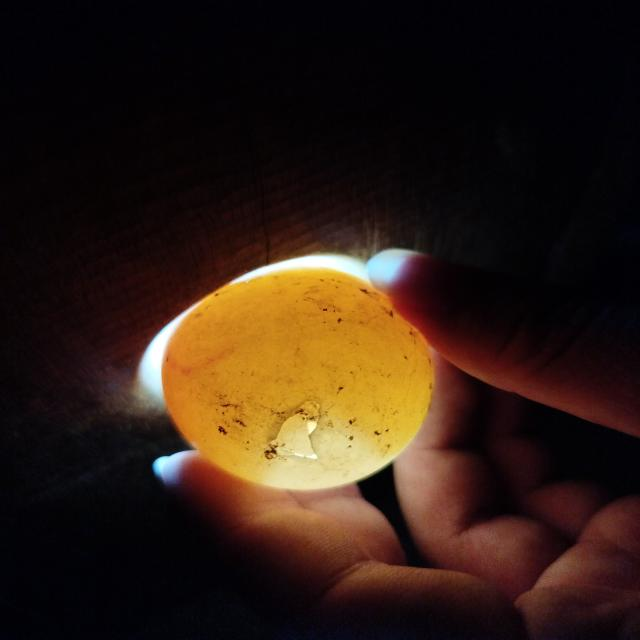Rachadura: (269, 401, 319, 460)
